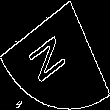N_NE: (32, 25, 78, 85)
